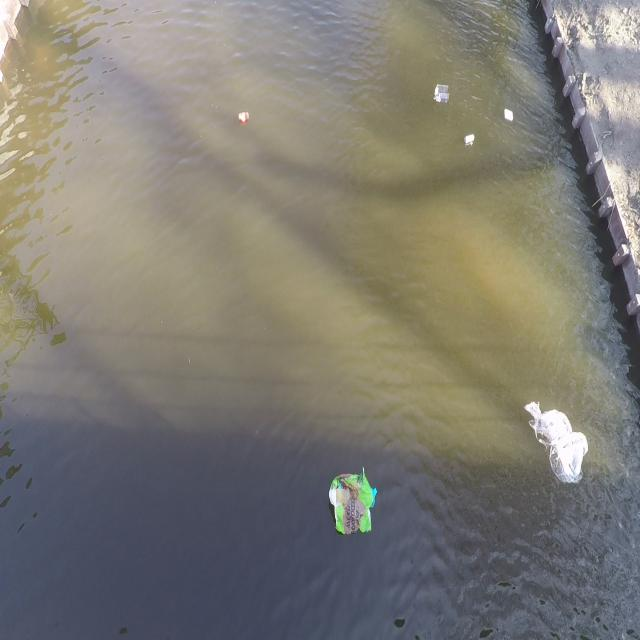Autre plastique: (502, 109, 514, 122)
Non plastique: (236, 112, 250, 127)
Sac plastique: (523, 396, 592, 488), (328, 467, 380, 539)
